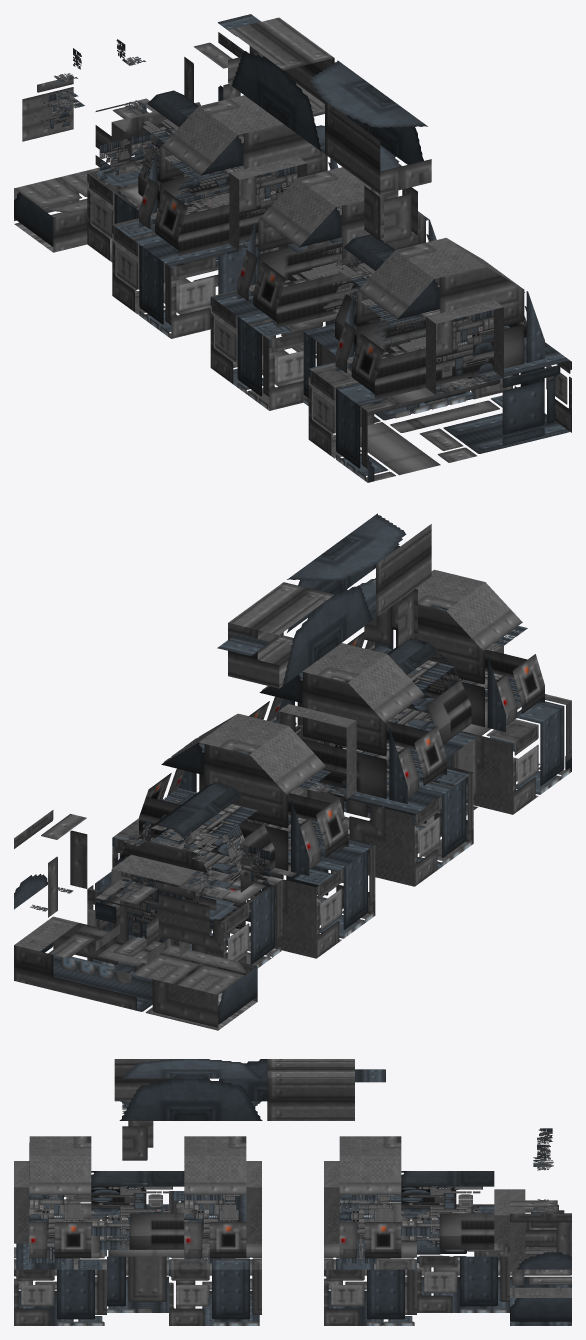
File: steam_turbine_mirrored.obj
The picture shows the model from 3 angles, top to bottom: view 1: azimuth 30°, elevation 25°; view 2: azimuth 150°, elevation 25°; view 3: azimuth 270°, elevation 25°; orthographic projection. The views are drawn at different scales.
Visible parts, largest first — view 1: base; view 2: base; view 3: base.
Part boxes in pixels (x1=…): base: x1=14, y1=14, x2=571, y2=482; base: x1=14, y1=513, x2=571, y2=1030; base: x1=14, y1=1059, x2=571, y2=1325.
Size of the model in its own units: 3 by 3.88 by 9.
